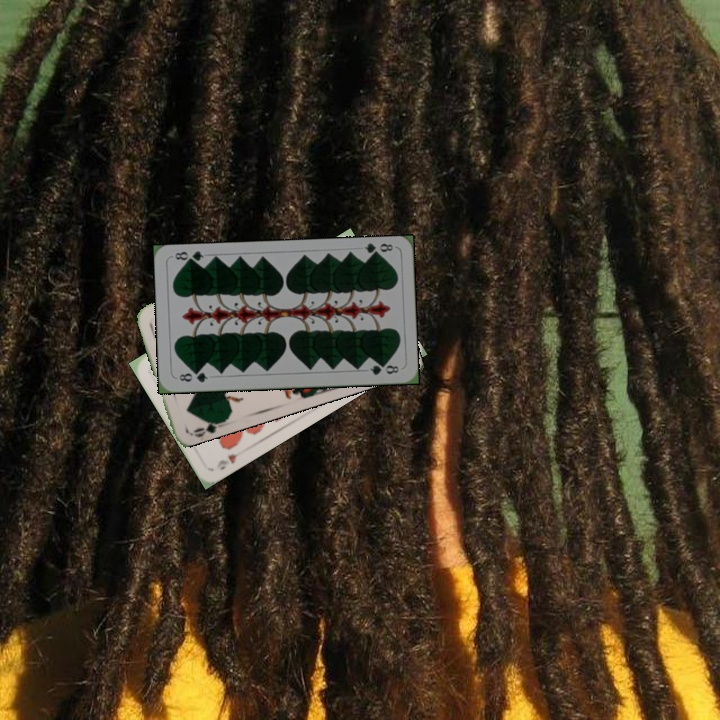G8: (360, 239, 395, 260), (175, 367, 210, 385)
GO: (188, 416, 228, 439)
H9: (213, 446, 247, 472)
